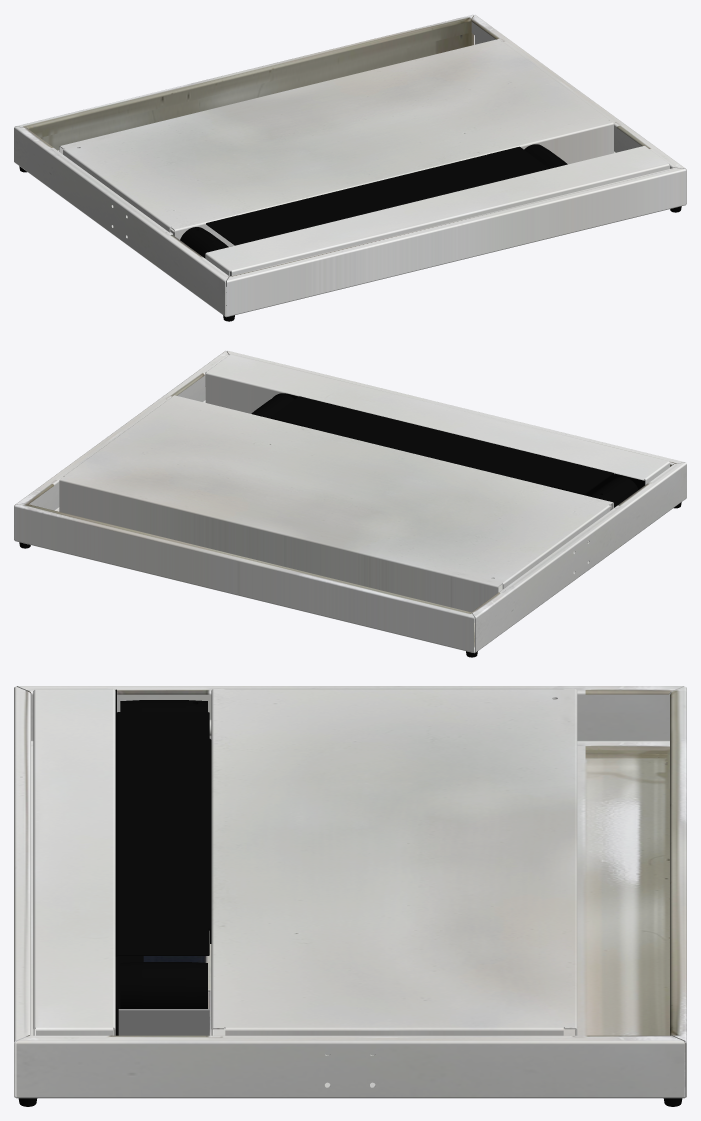
The model's file is bottom.FBX.
3 renders of one model, top to bottom at view 1: azimuth 30°, elevation 25°; view 2: azimuth 150°, elevation 25°; view 3: azimuth 270°, elevation 25°, orthographic. The views are drawn at different scales.
Visible parts, largest first — view 1: CASE01, BOTTOM, FRONTYARD, CASE02, ROLLER01, ROLLER02; view 2: CASE01, BOTTOM, FRONTYARD, CASE02, ROLLER01, ROLLER02; view 3: CASE01, BOTTOM, FRONTYARD, CASE02, ROLLER02, COVER_1, ROLLER01.
Part boxes in pixels (<box>): CASE01: <box>59,39,613,246</box>; BOTTOM: <box>14,14,686,317</box>; FRONTYARD: <box>205,146,669,305</box>; CASE02: <box>204,146,549,275</box>; ROLLER01: <box>180,227,228,257</box>; ROLLER02: <box>524,144,567,168</box>; CASE01: <box>59,395,613,612</box>; BOTTOM: <box>14,350,686,653</box>; FRONTYARD: <box>205,354,669,484</box>; CASE02: <box>270,393,644,496</box>; ROLLER01: <box>590,476,638,507</box>; ROLLER02: <box>251,394,294,424</box>; CASE01: <box>211,689,577,1035</box>; BOTTOM: <box>14,686,686,1098</box>; FRONTYARD: <box>33,689,115,1035</box>; CASE02: <box>115,689,211,1035</box>; ROLLER02: <box>120,962,207,1008</box>; COVER_1: <box>118,1009,209,1035</box>; ROLLER01: <box>120,700,207,711</box>.
Size of the model in its own units: 0.7494 by 0.0712 by 0.5974.
